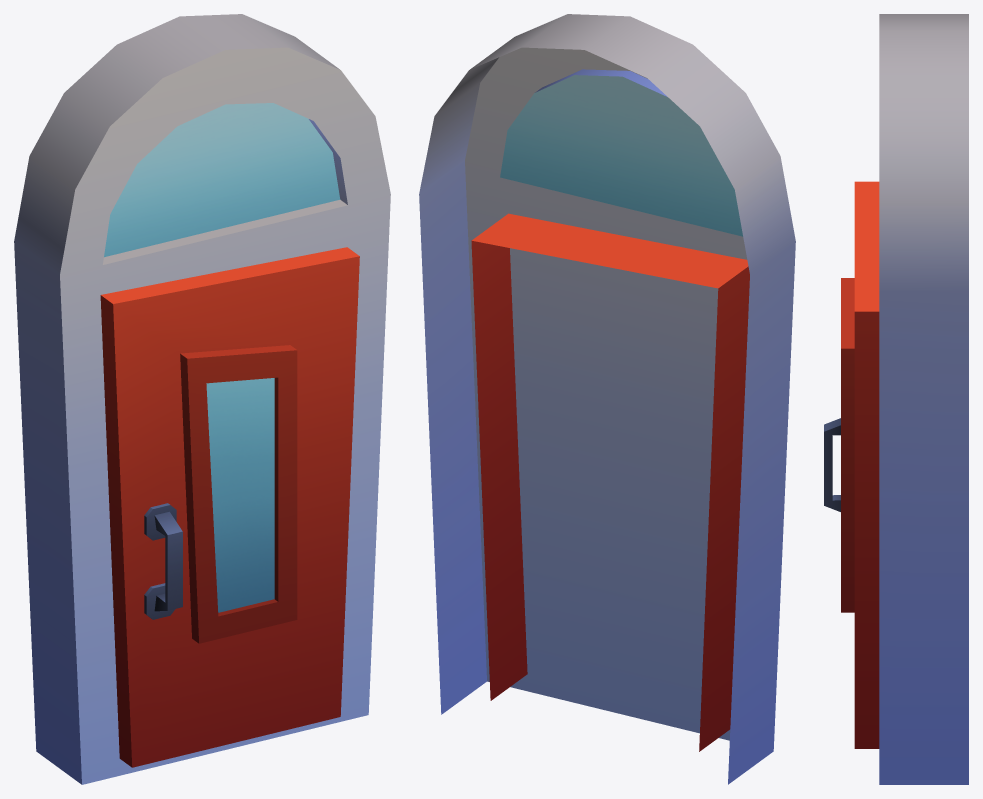
Rendered from Door_04A.fbx.
3 renders of one model, left to right at view 1: azimuth 30°, elevation 25°; view 2: azimuth 150°, elevation 25°; view 3: azimuth 270°, elevation 25°, orthographic. The views are drawn at different scales.
Visible parts, largest first — view 1: Door_04A; view 2: Door_04A; view 3: Door_04A.
Boxes of the visible parts, bbox=[...] form: Door_04A: bbox=[14, 14, 390, 784]; Door_04A: bbox=[419, 14, 795, 784]; Door_04A: bbox=[824, 14, 968, 784].
Size of the model in its own units: 172 by 348 by 66.76.
Materials: 3 (3 with a texture image).
